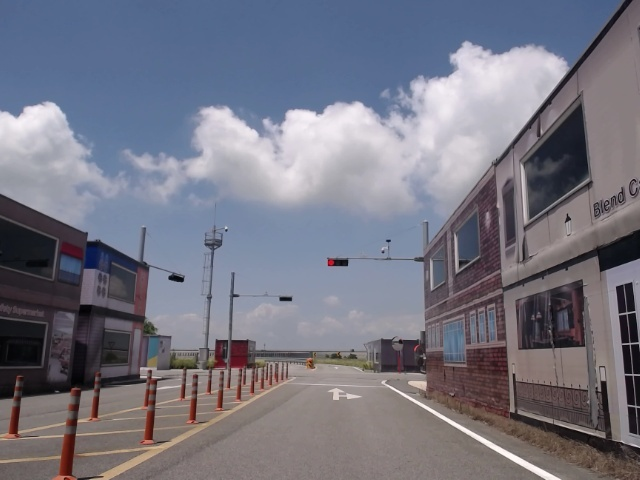red_3: (327, 258, 348, 266)
